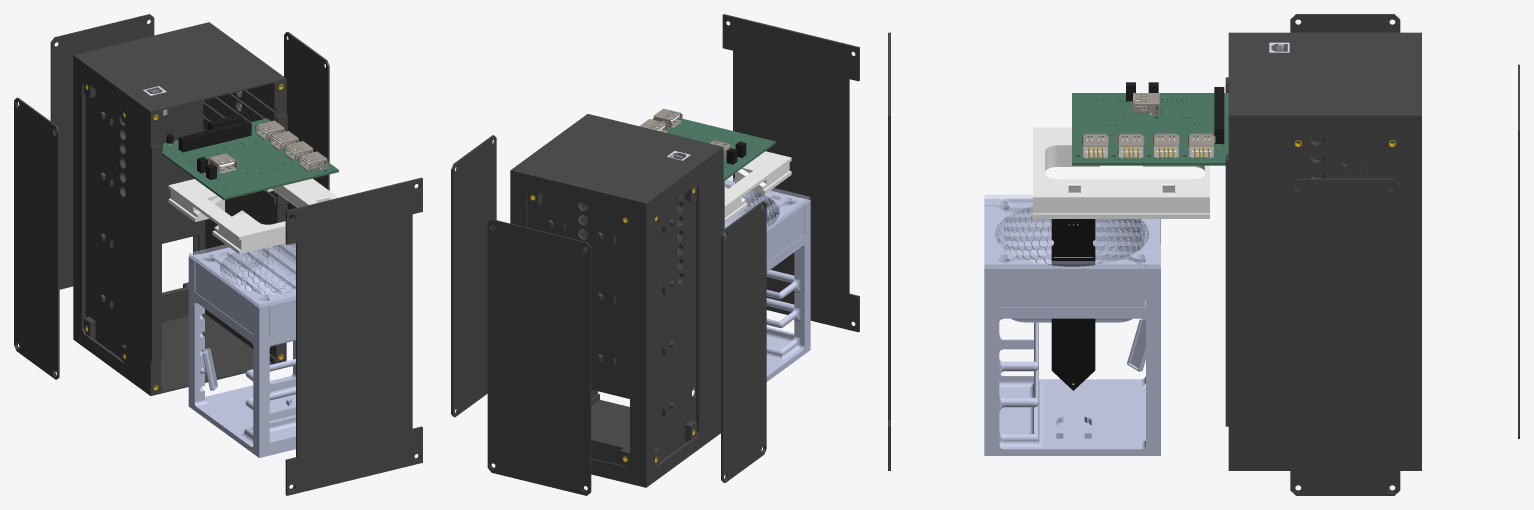
Rendered from Nanolab_Assembly.gltf.
3 views of the same model, side by side, from view 1: azimuth 30°, elevation 25°; view 2: azimuth 150°, elevation 25°; view 3: azimuth 270°, elevation 25° (orthographic). The views are drawn at different scales.
Visible parts, largest first — view 1: Nanolab Shell-1, Front Door-1, Side Doors-2, TDC Bottom V2-1, Resin Addin TDC-1, Back Door-2, HexaFlow_PCB.step-1/HexaFlow_PCB_PCB.step-1, Camera+LED Module-1, Side Doors-1, Substrate_Grate-1, HexaFlow_PCB.step-1/PinSocket_2x20_P2.54mm_Vertical.step-1, HexaFlow_PCB.step-1/USB-A-TH_4P-L14.4-W13.6-H7.0-S2.71.step-; view 2: Nanolab Shell-1, Back Door-2, Front Door-1, Side Doors-2, Side Doors-1, TDC Bottom V2-1, Resin Addin TDC-1, Camera+LED Module-1, HexaFlow_PCB.step-1/HexaFlow_PCB_PCB.step-1, Substrate_Grate-1; view 3: Nanolab Shell-1, Side Doors-1, TDC Bottom V2-1, Resin Addin TDC-1, Camera+LED Module-1, HexaFlow_PCB.step-1/HexaFlow_PCB_PCB.step-1, Substrate_Grate-1, Capacitive_Soil_Moisture_Sensor-1, Side Doors-2, HexaFlow_PCB.step-1/USB-A-TH_4P-L14.4-W13.6-H7.0-S2.71.step- (×2), Front Door-1, Back Door-2.
Boxes of the visible parts, x1,y1,x2,y2 form: Nanolab Shell-1: (73, 22, 287, 395); Front Door-1: (285, 177, 422, 495); Side Doors-2: (14, 97, 59, 379); TDC Bottom V2-1: (188, 254, 295, 457); Resin Addin TDC-1: (195, 243, 295, 346); Back Door-2: (50, 14, 154, 289); HexaFlow_PCB.step-1/HexaFlow_PCB_PCB.step-1: (162, 118, 338, 199); Camera+LED Module-1: (168, 178, 338, 254); Side Doors-1: (284, 32, 329, 218); Substrate_Grate-1: (189, 243, 295, 307); HexaFlow_PCB.step-1/PinSocket_2x20_P2.54mm_Vertical.step-1: (178, 120, 251, 152); HexaFlow_PCB.step-1/USB-A-TH_4P-L14.4-W13.6-H7.0-S2.71.step-: (298, 151, 327, 171); Nanolab Shell-1: (510, 114, 724, 487); Back Door-2: (487, 219, 591, 495); Front Door-1: (722, 14, 859, 332); Side Doors-2: (721, 201, 766, 482); Side Doors-1: (451, 135, 496, 417); TDC Bottom V2-1: (678, 197, 810, 390); Resin Addin TDC-1: (677, 180, 804, 277); Camera+LED Module-1: (677, 151, 791, 223); HexaFlow_PCB.step-1/HexaFlow_PCB_PCB.step-1: (652, 117, 775, 180); Substrate_Grate-1: (678, 177, 809, 234); Nanolab Shell-1: (1225, 32, 1421, 470); Side Doors-1: (1290, 178, 1400, 495); TDC Bottom V2-1: (984, 198, 1160, 455); Resin Addin TDC-1: (984, 199, 1159, 322); Camera+LED Module-1: (1033, 127, 1209, 218); HexaFlow_PCB.step-1/HexaFlow_PCB_PCB.step-1: (1072, 93, 1228, 165); Substrate_Grate-1: (984, 195, 1160, 268); Capacitive_Soil_Moisture_Sensor-1: (1051, 219, 1095, 390); Side Doors-2: (1290, 14, 1400, 177); HexaFlow_PCB.step-1/USB-A-TH_4P-L14.4-W13.6-H7.0-S2.71.step- (×2): (1081, 133, 1215, 158); Front Door-1: (888, 32, 890, 470); Back Door-2: (1518, 64, 1519, 438).
Size of the model in its own units: 0.2 by 0.2 by 0.3222.
